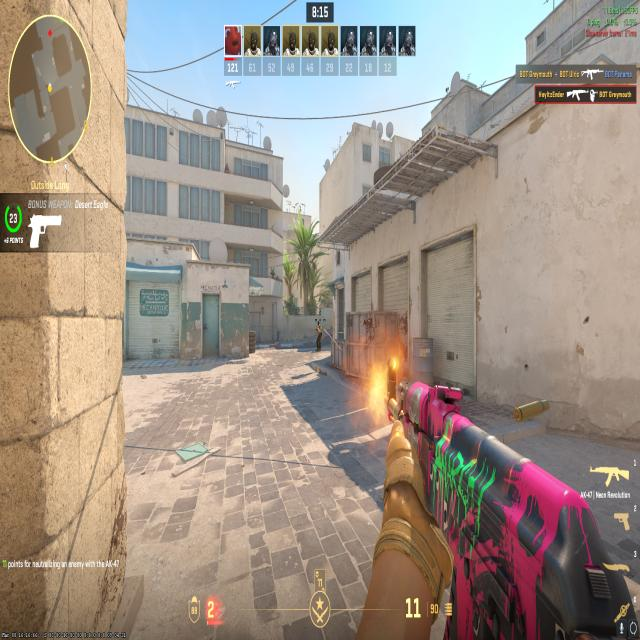t: (310, 318, 326, 352)
